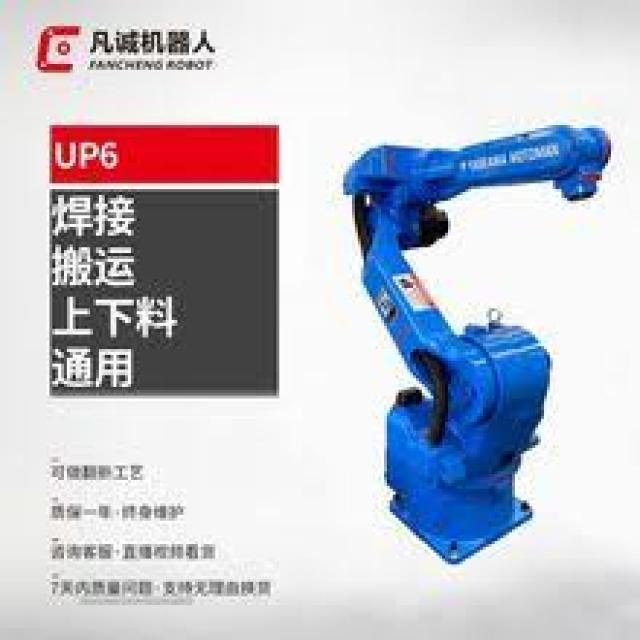Robotic-arm: (330, 115, 618, 570)
